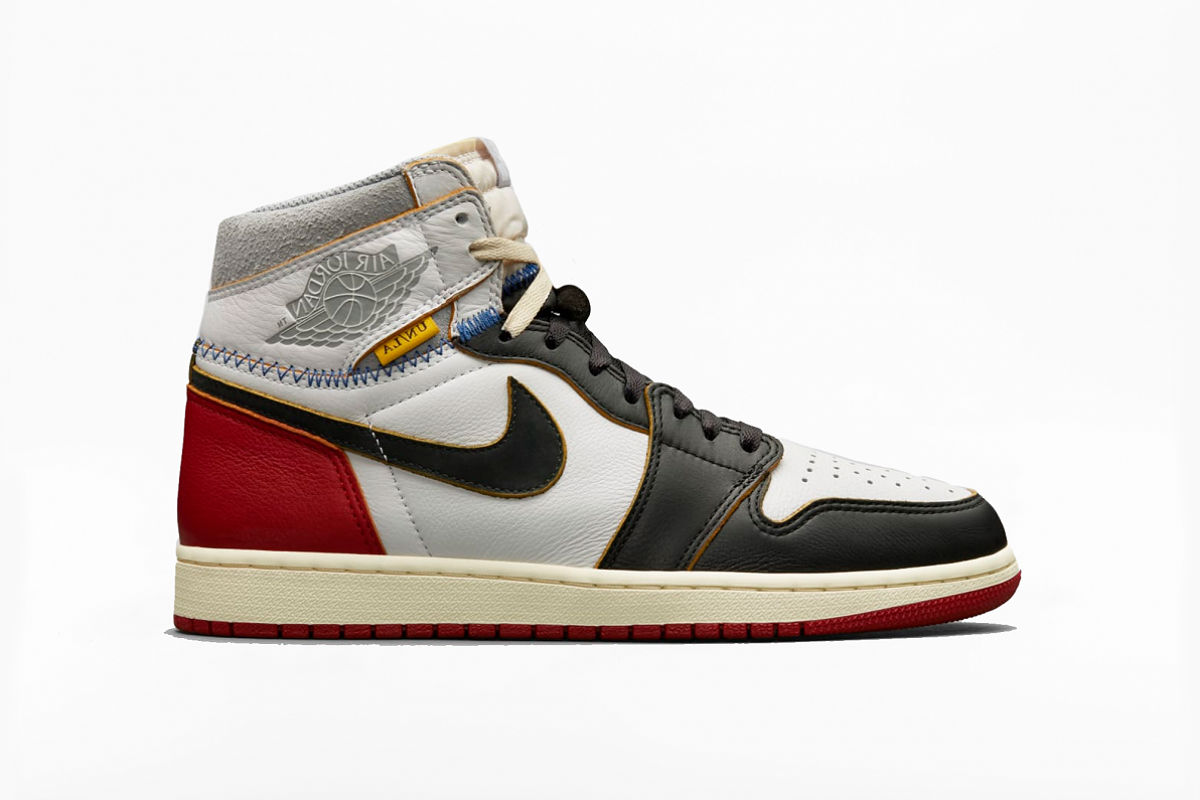Jordan 1: (168, 131, 1031, 662)
